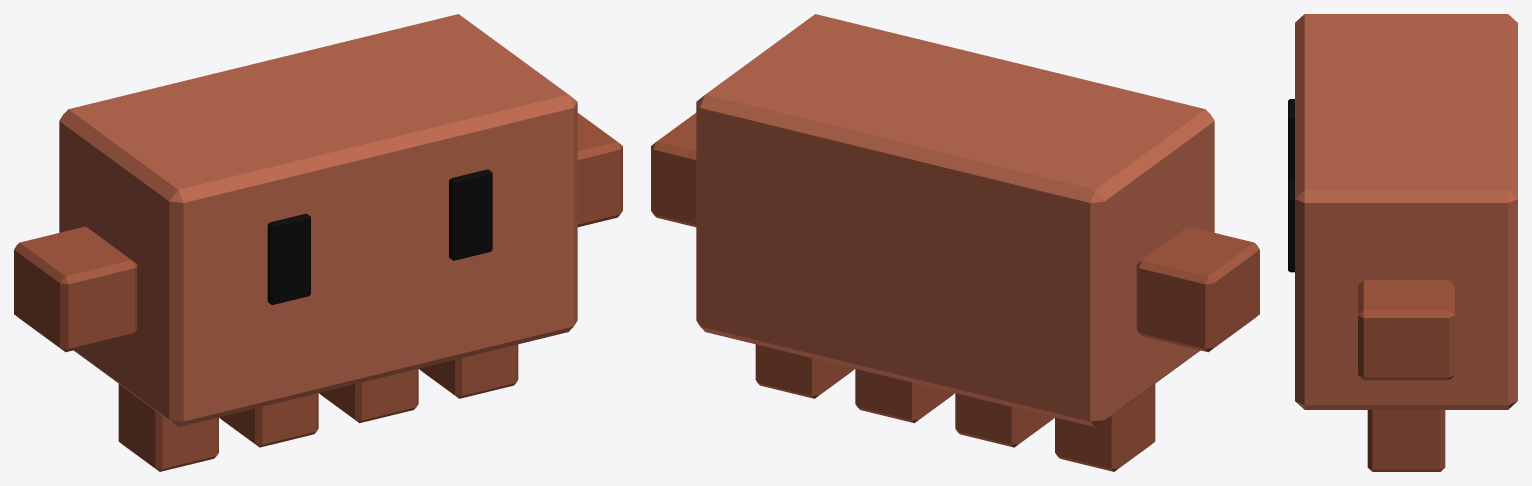
Rendered from clawd.glb.
3 views of the same model, side by side, from view 1: azimuth 30°, elevation 25°; view 2: azimuth 150°, elevation 25°; view 3: azimuth 270°, elevation 25° (orthographic). The views are drawn at different scales.
Parts seen in each view (by area): view 1: Clawd_Body, Clawd, Clawd_Arm_L, Clawd_Arm_R; view 2: Clawd_Body, Clawd, Clawd_Arm_L, Clawd_Arm_R; view 3: Clawd_Body, Clawd_Arm_R, Clawd.
Part boxes in pixels (box(x1,y1,x2,y2)): Clawd_Body: box(59, 14, 577, 427); Clawd: box(118, 344, 518, 471); Clawd_Arm_L: box(14, 226, 137, 352); Clawd_Arm_R: box(577, 113, 622, 227); Clawd_Body: box(696, 14, 1214, 427); Clawd: box(755, 344, 1155, 471); Clawd_Arm_L: box(1136, 226, 1259, 352); Clawd_Arm_R: box(651, 113, 696, 227); Clawd_Body: box(1288, 14, 1517, 409); Clawd_Arm_R: box(1358, 280, 1454, 380); Clawd: box(1367, 410, 1445, 471).
Bounding box in the file's own units: 1.24 × 0.66 × 0.474.
